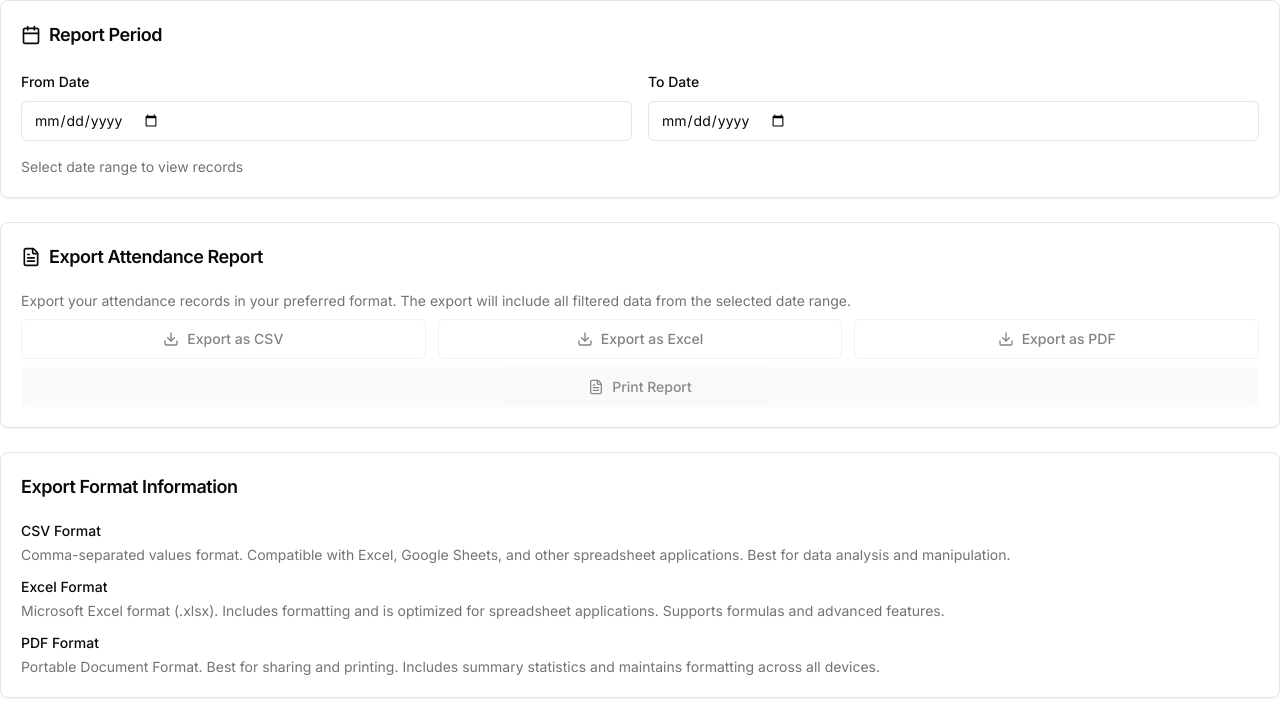
Test: AttendanceReports › should display record count after loading
The image size is (1280, 720).
Type "2024-01-01" into the date field labelled "From Date" at (326, 121), box [21, 101, 632, 141]
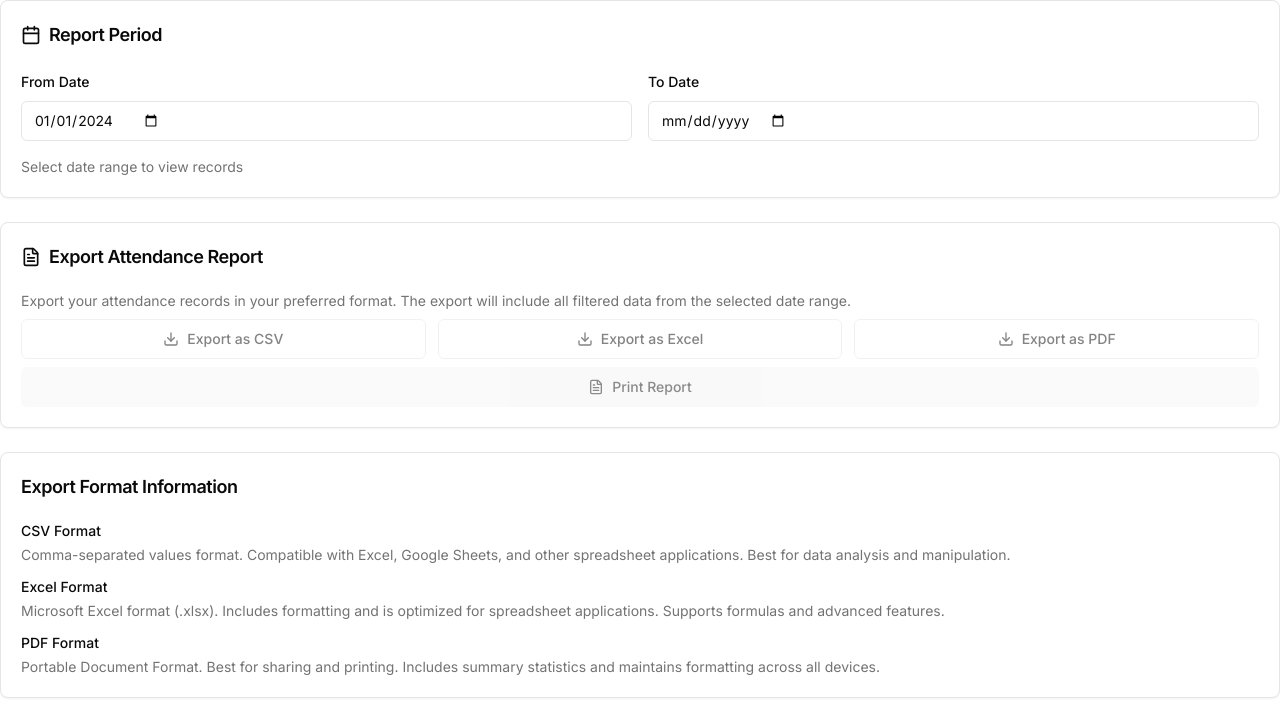
Type "2024-01-31" into the date field labelled "To Date" at (954, 121), box [648, 101, 1259, 141]
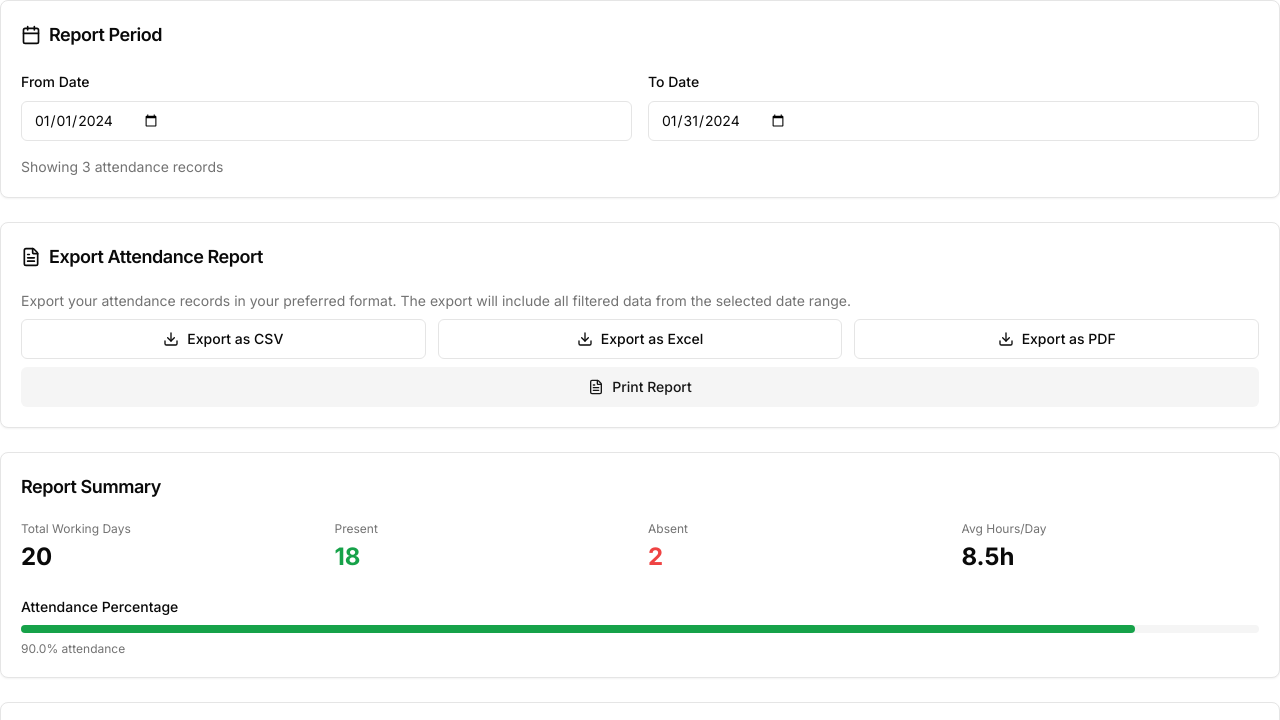
expect the text "Showing 3 attendance records" is shown: met, box [21, 158, 223, 175]
